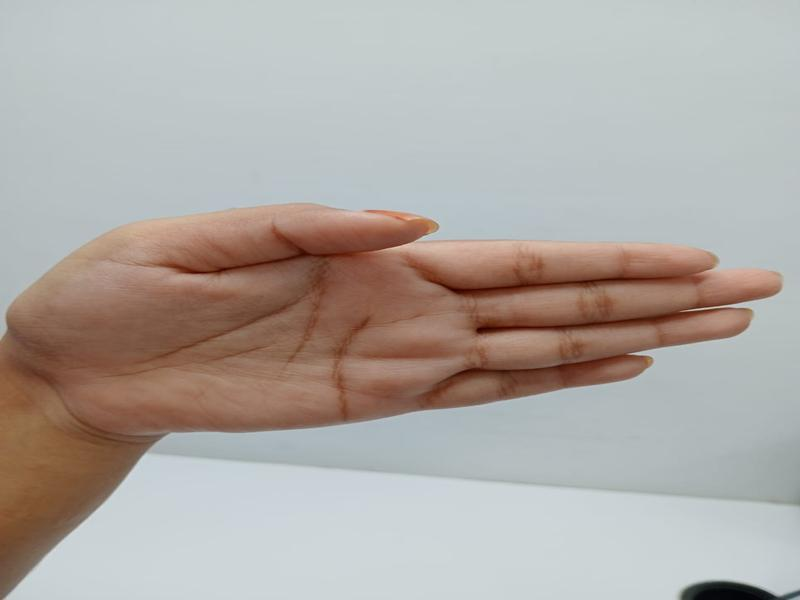DOWN: (1, 172, 793, 560)
